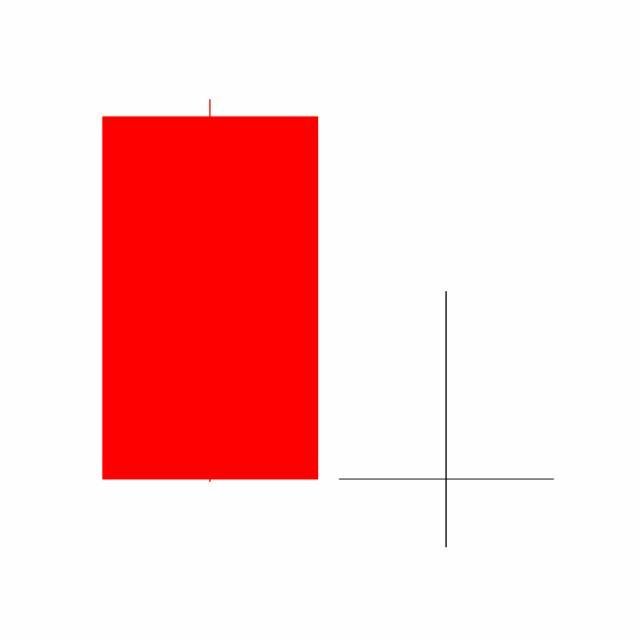Spinning Top: (328, 289, 566, 551)
